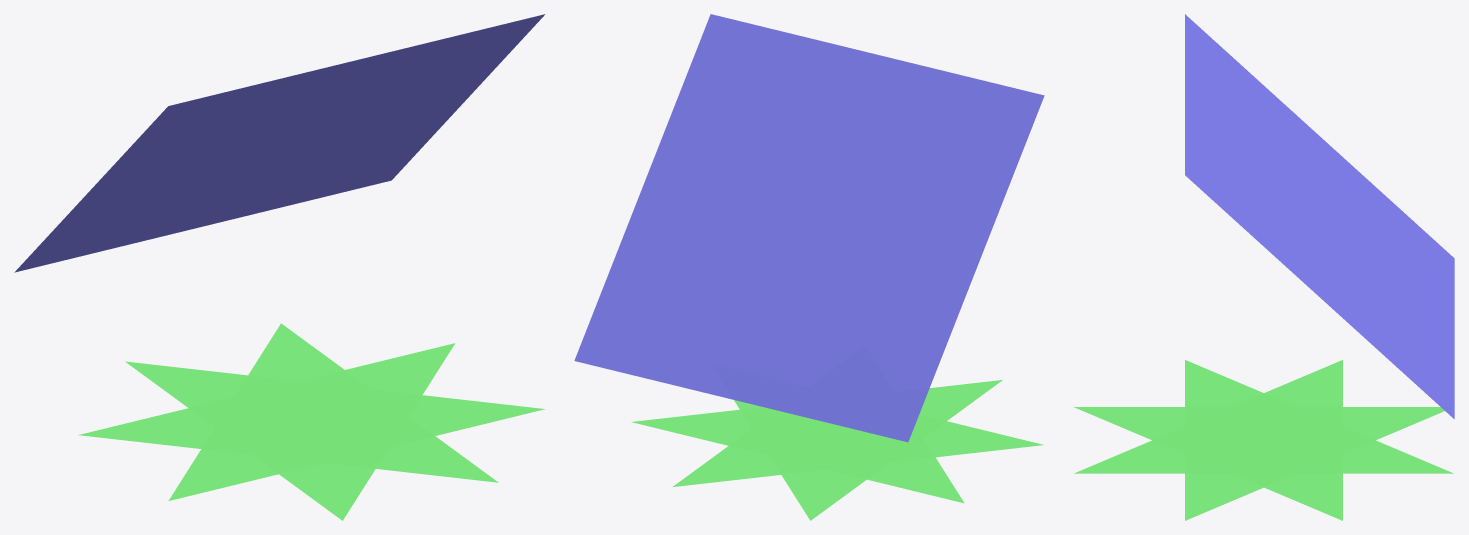
Rendered from GreatRhombihexahedronF.obj.
The picture shows the model from 3 angles, left to right: view 1: azimuth 30°, elevation 25°; view 2: azimuth 150°, elevation 25°; view 3: azimuth 270°, elevation 25°; orthographic projection. The views are drawn at different scales.
Size of the model in its own units: 1 by 1 by 1.
